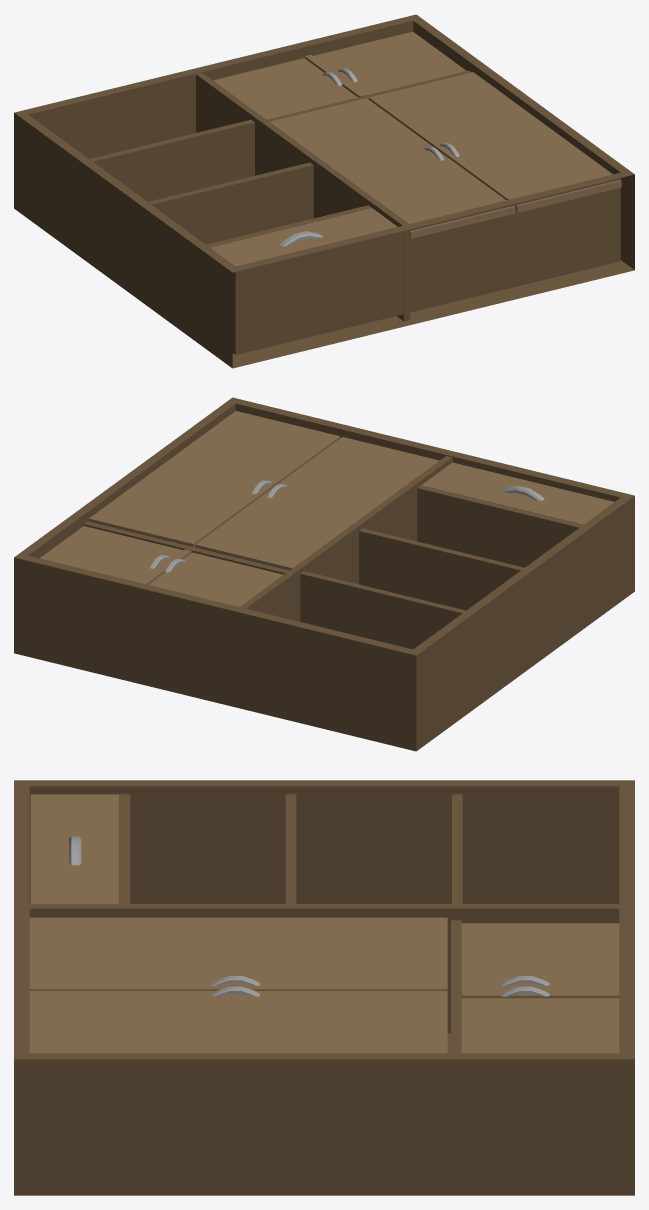
The model's file is closet_from_poly_by_google.fbx.
3 renders of one model, top to bottom at view 1: azimuth 30°, elevation 25°; view 2: azimuth 150°, elevation 25°; view 3: azimuth 270°, elevation 25°, orthographic. The views are drawn at different scales.
Parts seen in each view (by area): view 1: imagetostl_mesh0, imagetostl_mesh1, imagetostl_mesh2; view 2: imagetostl_mesh0, imagetostl_mesh1, imagetostl_mesh2; view 3: imagetostl_mesh0, imagetostl_mesh1, imagetostl_mesh2.
Part boxes in pixels (x1=…): imagetostl_mesh0: x1=14, y1=14, x2=634, y2=368; imagetostl_mesh1: x1=210, y1=31, x2=621, y2=266; imagetostl_mesh2: x1=279, y1=68, x2=459, y2=246; imagetostl_mesh0: x1=14, y1=397, x2=634, y2=751; imagetostl_mesh1: x1=40, y1=411, x2=614, y2=606; imagetostl_mesh2: x1=149, y1=480, x2=544, y2=572; imagetostl_mesh0: x1=14, y1=780, x2=634, y2=1195; imagetostl_mesh1: x1=29, y1=794, x2=619, y2=1053; imagetostl_mesh2: x1=69, y1=836, x2=549, y2=996.
Size of the model in its own units: 364 by 83.97 by 343.
